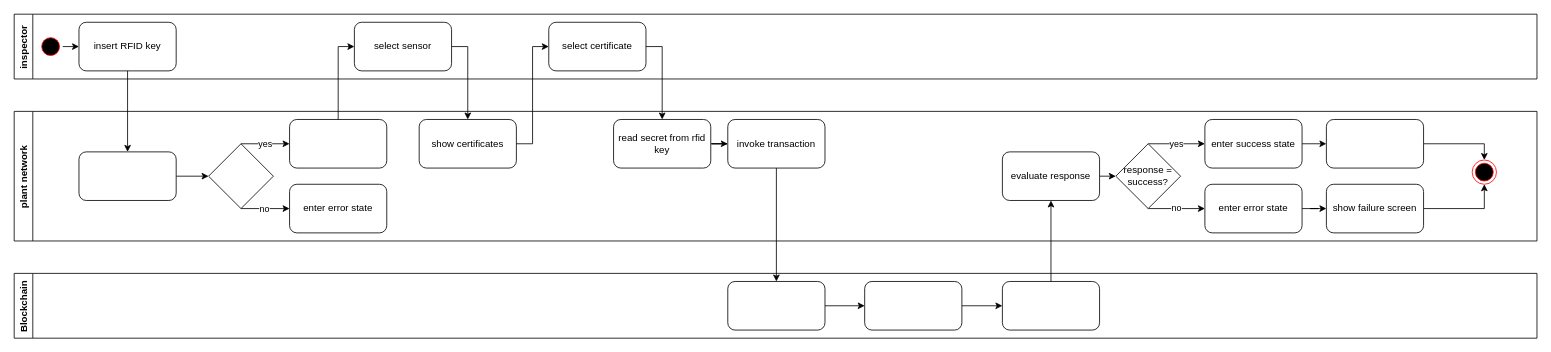
Image size: 1551x352. Some labels were removed from this diagram. Each missing label, with the centre of its shape:
certify sensor: the point at 913,305
check user: the point at 127,175
create response: the point at 1051,305
process transaction: the point at 776,305
show frontend: the point at 338,143
show success screen: the point at 1375,143
user = inspector: the point at 240,176
